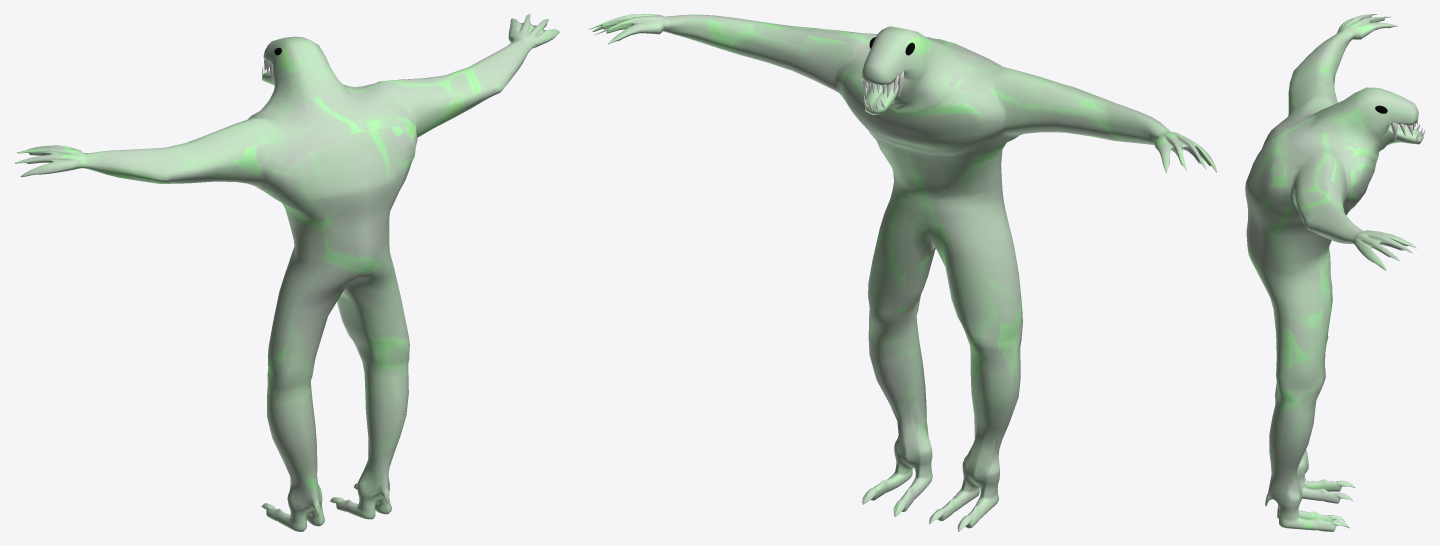
Rendered from Berserkeraranar.0007.obj.
3 views of the same model, side by side, from view 1: azimuth 30°, elevation 25°; view 2: azimuth 150°, elevation 25°; view 3: azimuth 270°, elevation 25° (orthographic). The views are drawn at different scales.
Parts seen in each view (by area): view 1: polySurface27; view 2: polySurface27; view 3: polySurface27.
Part boxes in pixels (<box>): polySurface27: <box>15,14,559,531</box>; polySurface27: <box>589,14,1216,531</box>; polySurface27: <box>1245,14,1425,531</box>.
Size of the model in its own units: 30.51 by 24.1 by 9.26.
Materials: 1 (1 with a texture image).
